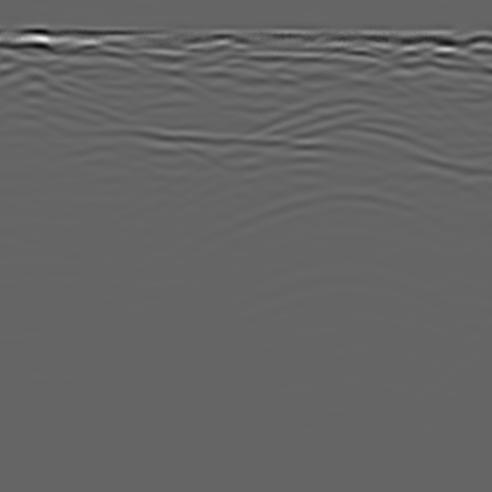hyperbola: (198, 108, 468, 244)
